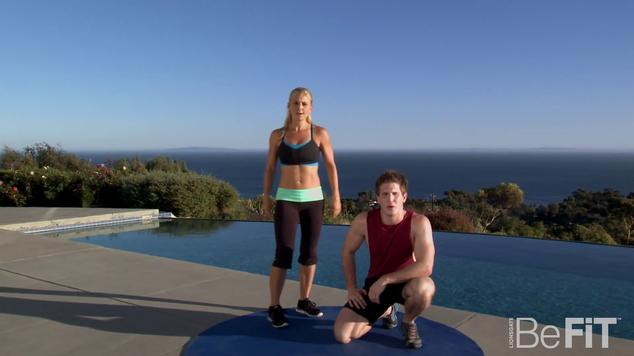crouch: (345, 164, 432, 354)
stay: (269, 91, 332, 316)
